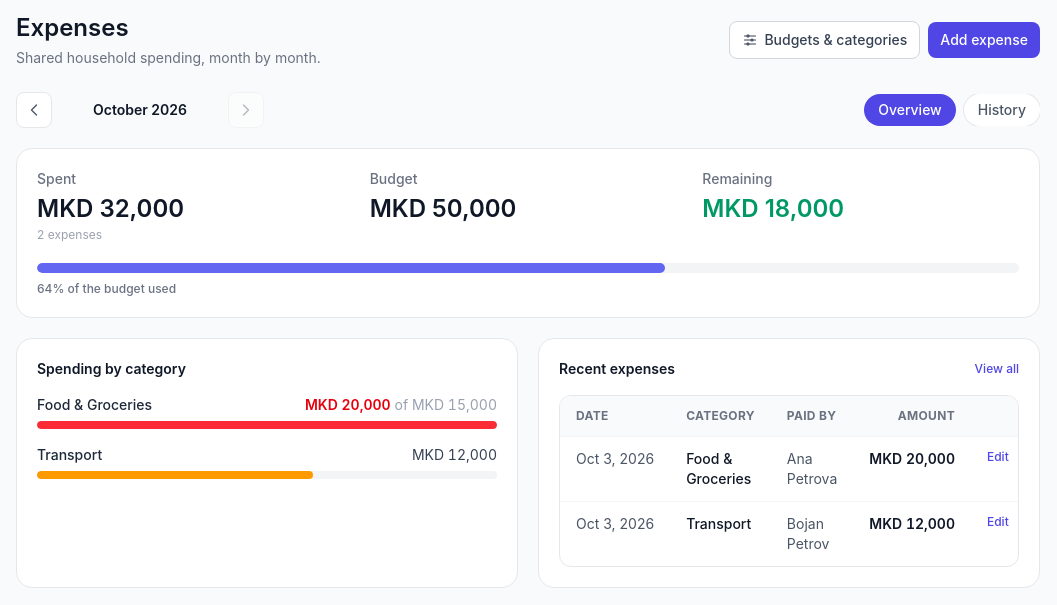
Test: Expenses page › never shows the previous month's numbers when the new month fails to load
This screenshot has width=1057, height=605.
Click the button named "Previous month": (34, 110) [16,92,52,128]
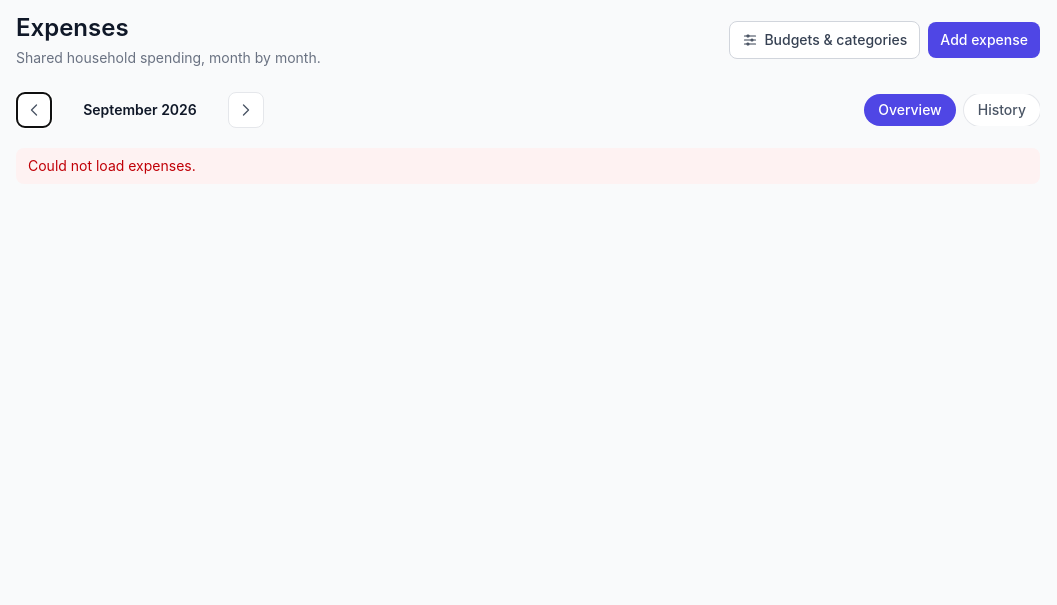
expect the text "Could not load expenses." is shown: met, box [16,148,1040,184]
expect the heading "Recent expenses" is gone: met
